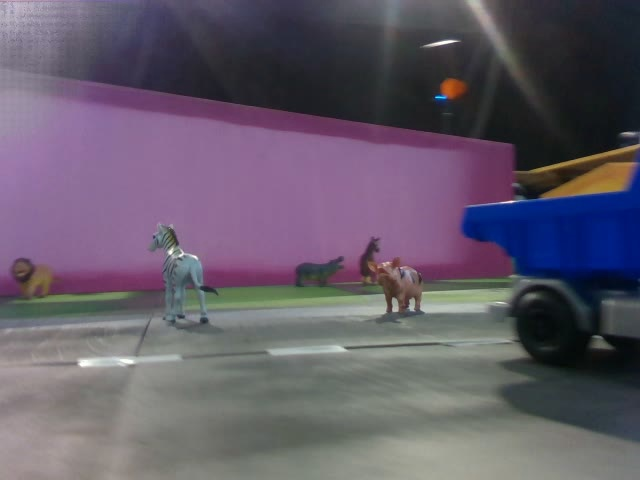toy: (147, 221, 219, 326), (366, 257, 424, 312), (9, 256, 64, 300), (294, 255, 346, 290)
